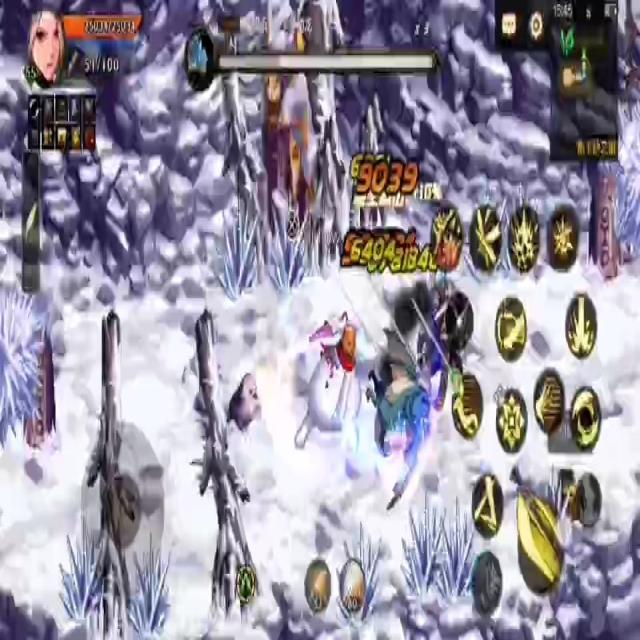player: (292, 319, 365, 459)
